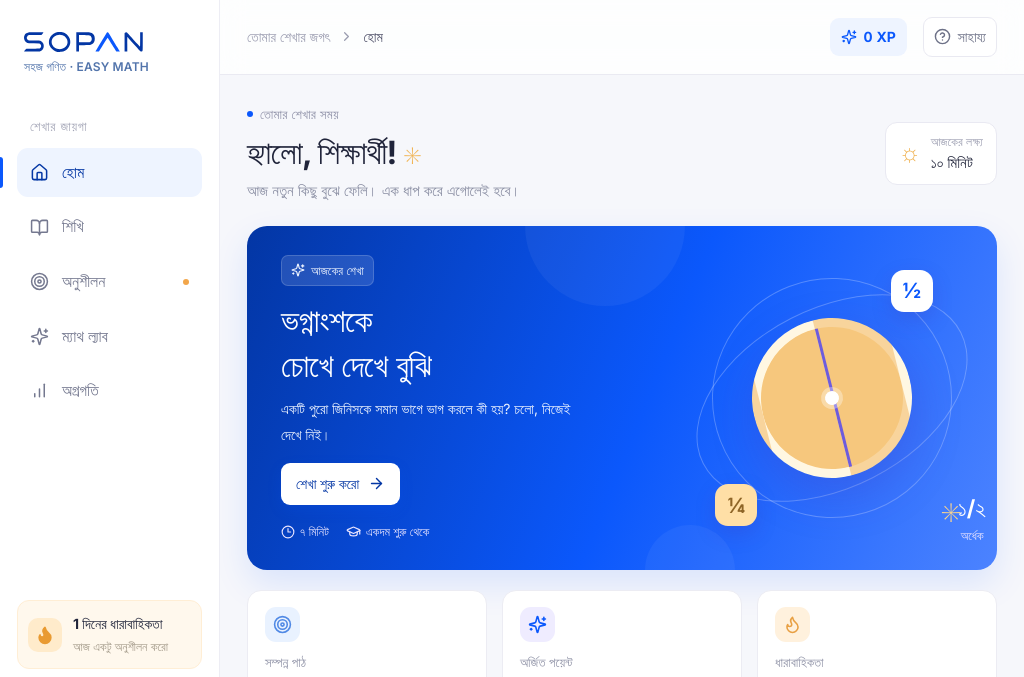
Easy Math learning flow › teaches multiplication as equal groups with a visual model
Click the button "শিখি": (110, 227) [17,202,202,252]
(page scrolled)
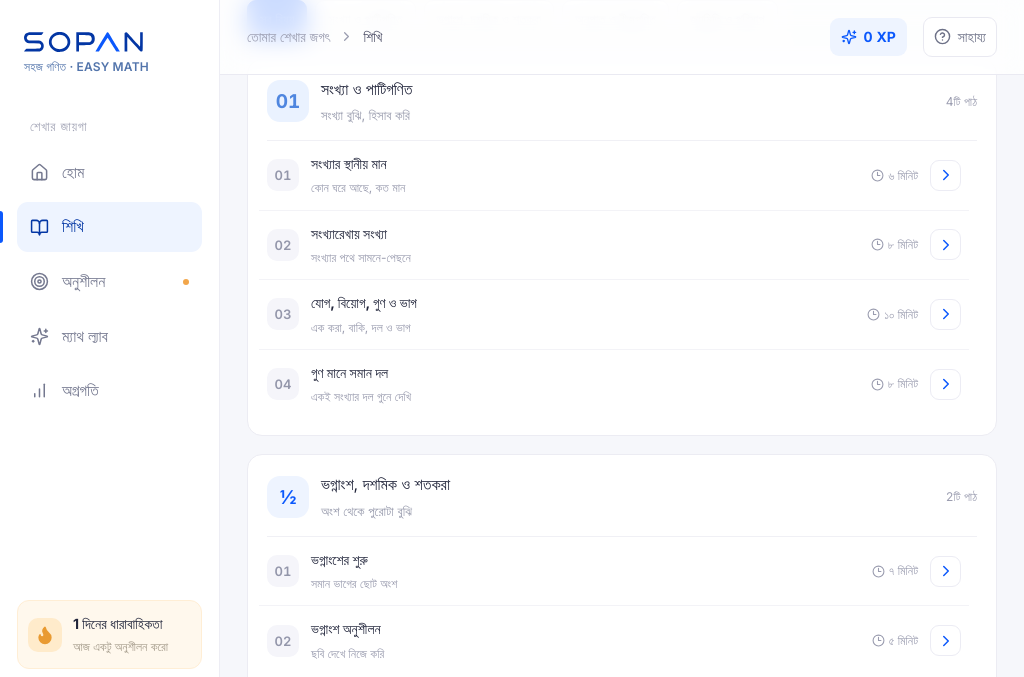
Click the button with aria-label "গুণ মানে সমান দল খুলুন": (283, 384) [259,350,969,418]
(page scrolled)
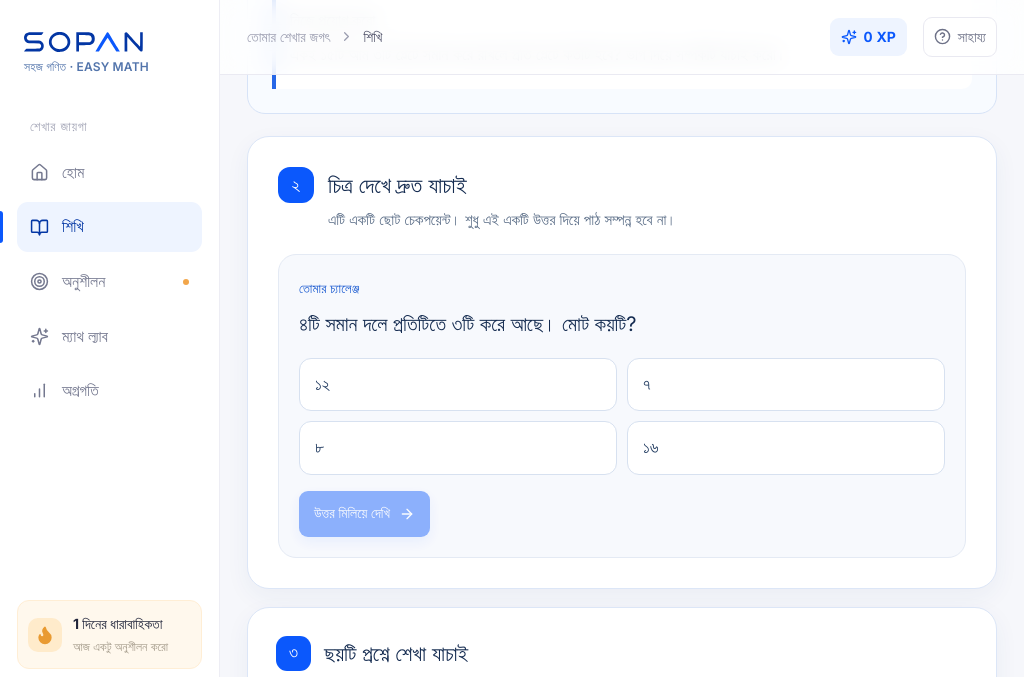
Click the button "১২": (323, 384) [299,358,617,411]
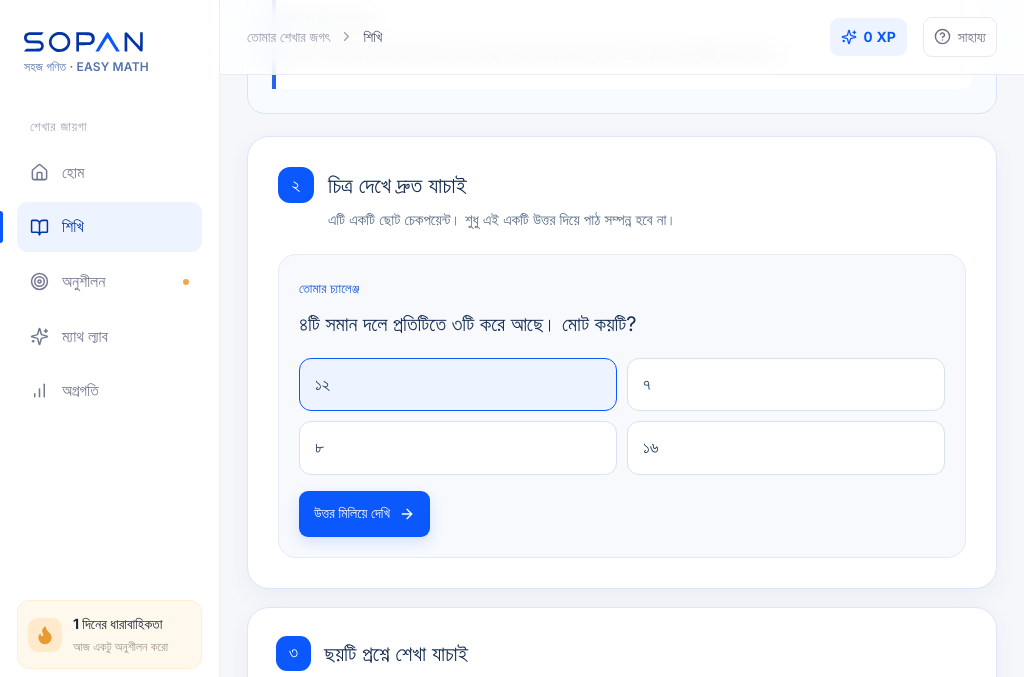
Click the button "উত্তর মিলিয়ে দেখি": (364, 514) [299,490,430,536]
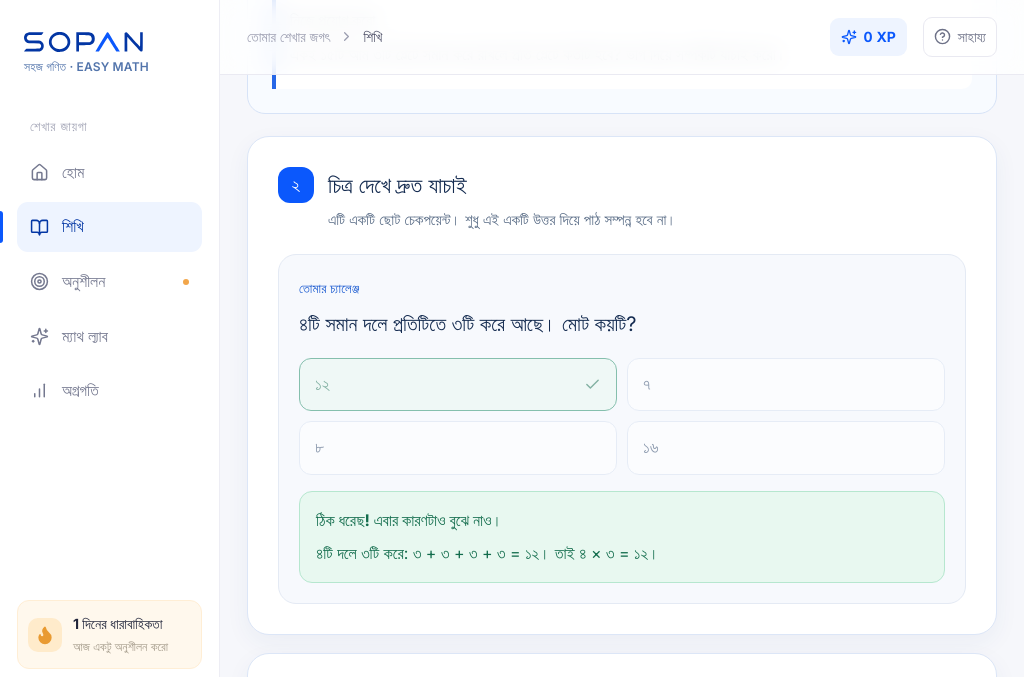
Check: the text "৪টি দলে ৩টি করে: ৩ + ৩ + ৩ + ৩ = ১২। তাই ৪ × ৩ = ১২।" is shown, box [316,543,659,563]
